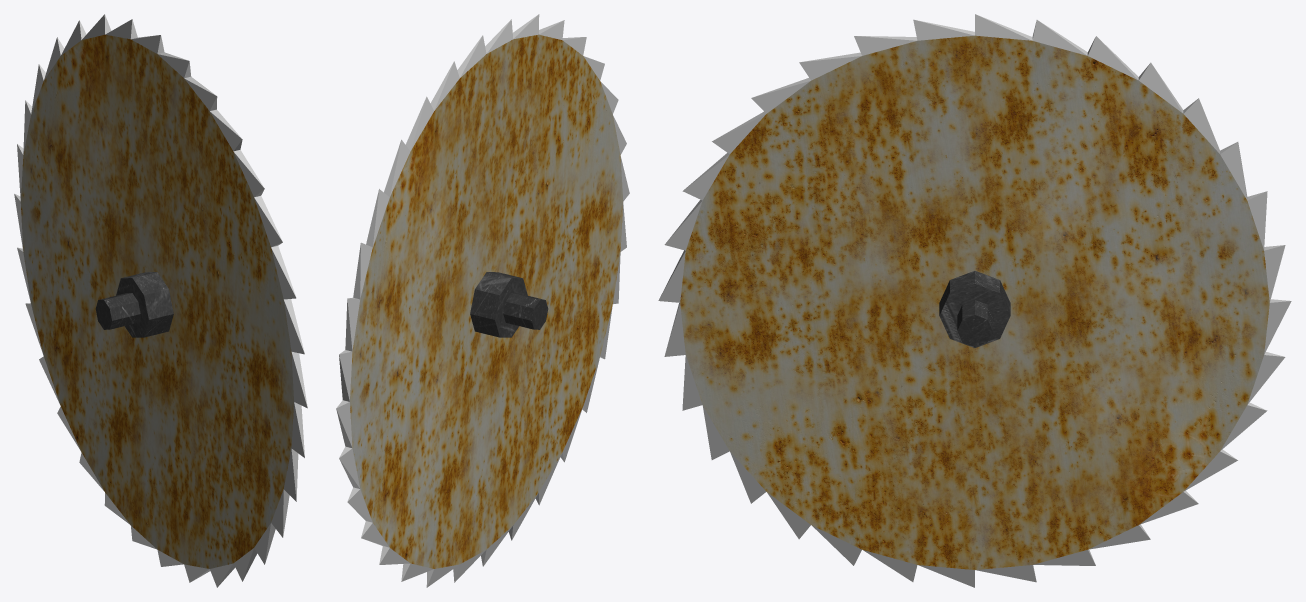
File: saw_v2_2withanimation.fbx
3 renders of one model, left to right at view 1: azimuth 30°, elevation 25°; view 2: azimuth 150°, elevation 25°; view 3: azimuth 270°, elevation 25°, orthographic. The views are drawn at different scales.
Visible parts, largest first — view 1: saw; view 2: saw; view 3: saw.
Boxes of the visible parts, x1,y1,x2,y2 form: saw: [14, 14, 307, 587]; saw: [336, 14, 629, 587]; saw: [658, 14, 1291, 587].
Bounding box in the file's own units: 32 × 143 × 143.
